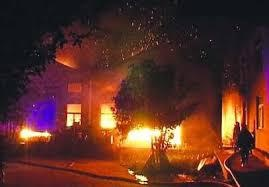fire: (98, 103, 187, 147), (221, 91, 244, 137), (18, 122, 52, 140), (98, 103, 115, 129), (65, 102, 80, 126)
